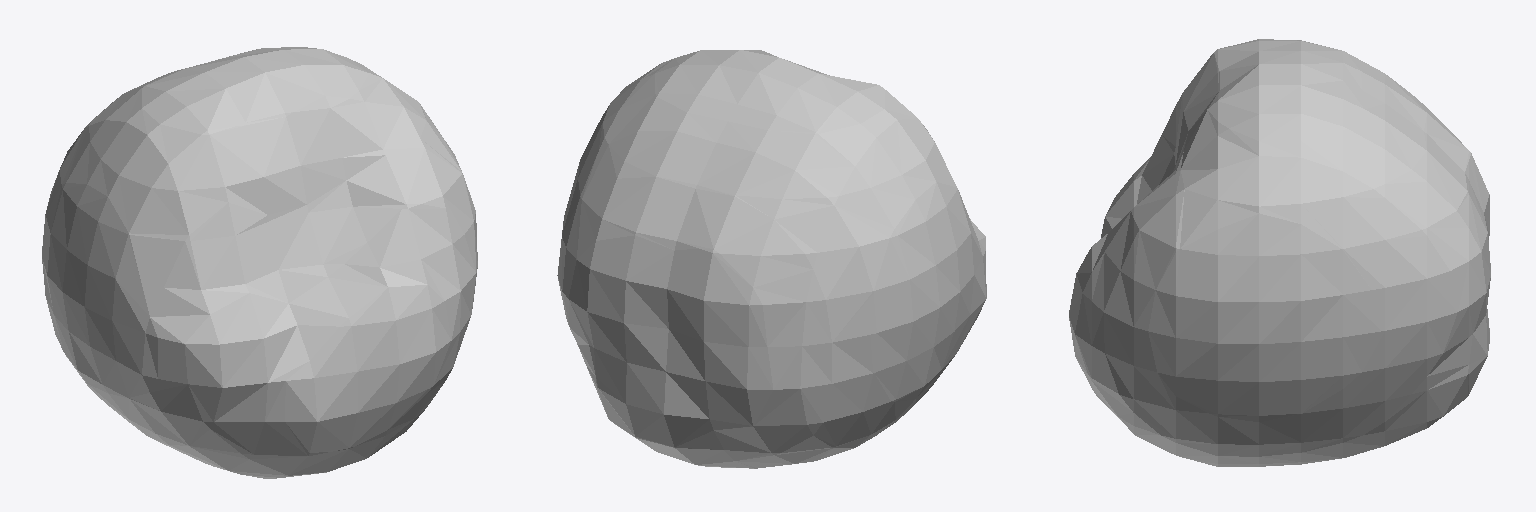
The model's file is yellow_pepper_offset1cm.obj.
3 views of the same model, side by side, from view 1: azimuth 30°, elevation 25°; view 2: azimuth 150°, elevation 25°; view 3: azimuth 270°, elevation 25° (orthographic).
Bounding box in the file's own units: 0.0997 × 0.0997 × 0.0999.